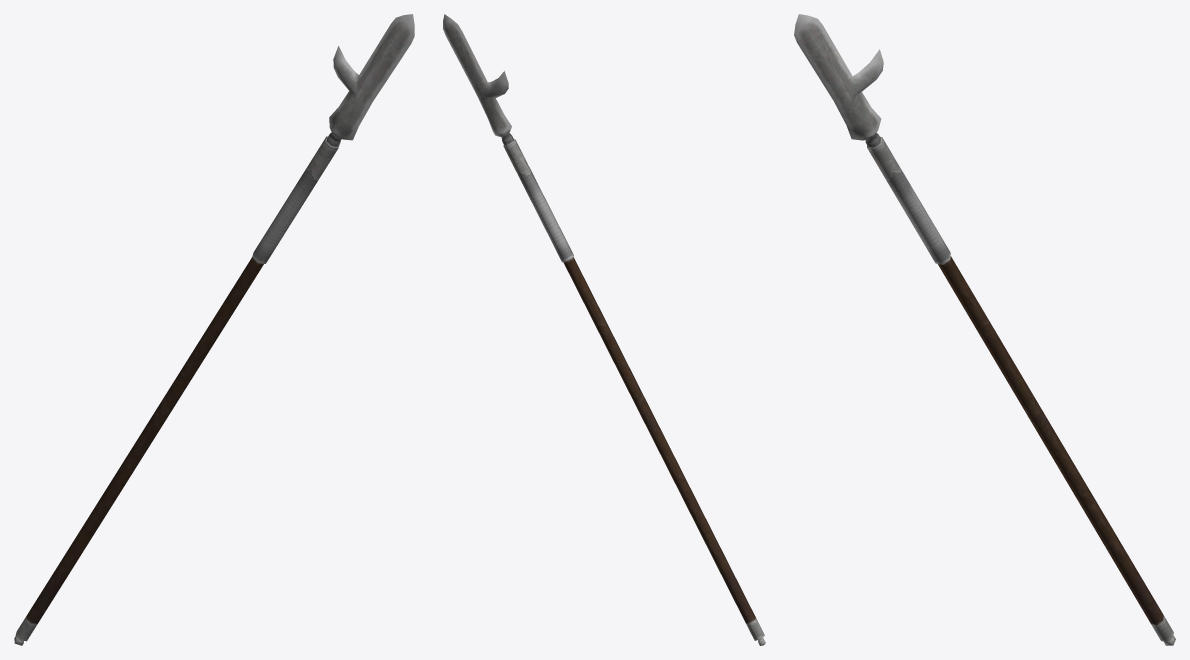
File: weapon-copperweapons.glb
3 views of the same model, side by side, from view 1: azimuth 30°, elevation 25°; view 2: azimuth 210°, elevation 25°; view 3: azimuth 270°, elevation 25° (orthographic). The views are drawn at different scales.
Size of the model in its own units: 0.7938 by 2.41 by 1.12.
Materials: 1 (1 with a texture image).
